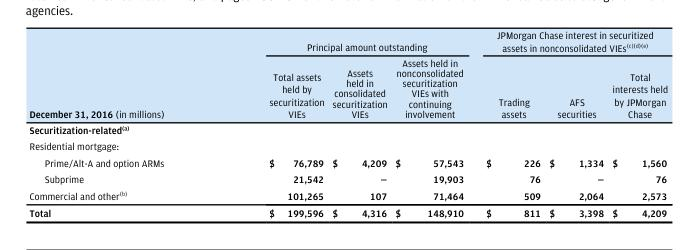table: (28, 29, 667, 218)
table column: (28, 29, 215, 218), (215, 29, 327, 218), (390, 29, 474, 218), (474, 29, 544, 218), (327, 29, 390, 218), (544, 29, 607, 218), (607, 29, 667, 218)
table column header: (28, 29, 667, 121)
table projected row header: (28, 137, 667, 154), (28, 121, 667, 137)
table row: (28, 55, 667, 121), (28, 29, 667, 55), (28, 137, 667, 154), (28, 170, 667, 187), (28, 187, 667, 204), (28, 121, 667, 137), (28, 154, 667, 170), (28, 204, 667, 218)
table spanning cell: (28, 29, 215, 121), (215, 29, 474, 55), (474, 29, 667, 55)
